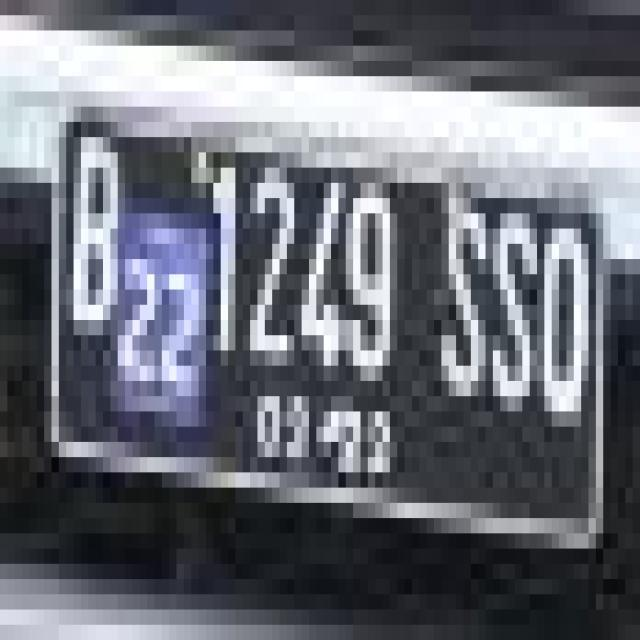1: (206, 152, 243, 366)
2: (246, 152, 298, 366)
4: (298, 152, 342, 381)
9: (346, 160, 398, 389)
B: (70, 129, 122, 343)
Q: (542, 219, 600, 427)
S: (489, 183, 541, 427), (438, 190, 490, 420)
